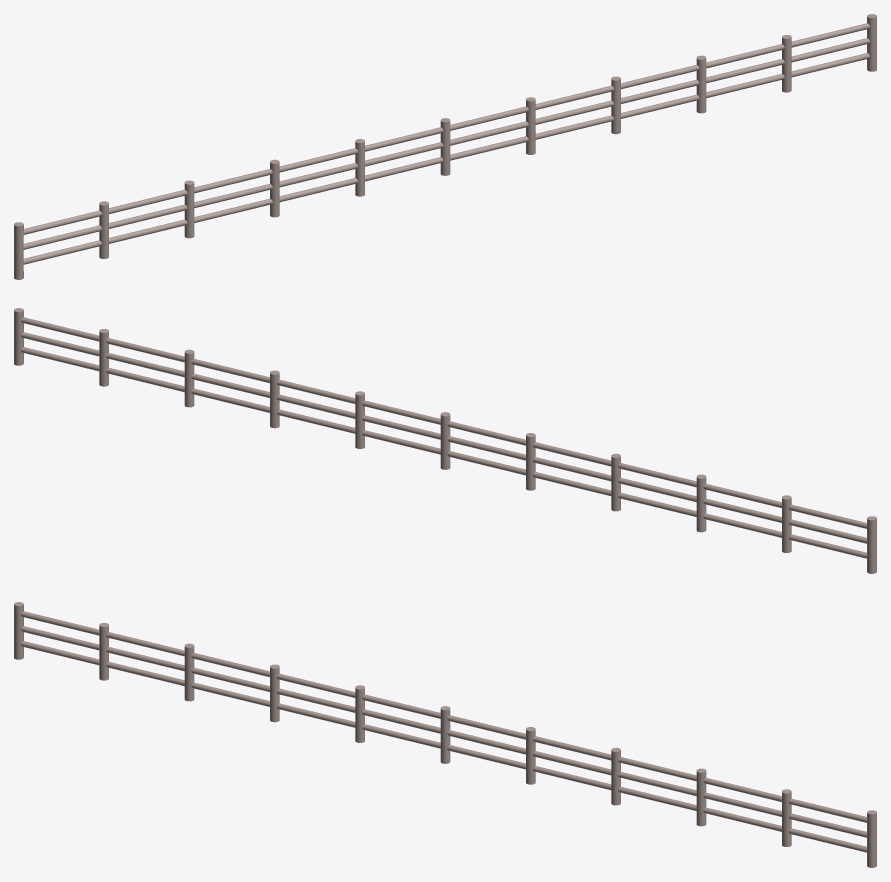
The model's file is 1010_fence_10.glb.
3 views of the same model, one above another, from view 1: azimuth 30°, elevation 25°; view 2: azimuth 150°, elevation 25°; view 3: azimuth 330°, elevation 25° (orthographic).
Parts seen in each view (by area): view 1: Body; view 2: Body; view 3: Body.
Part boxes in pixels (<box>): Body: <box>14,14,876,279</box>; Body: <box>14,308,876,573</box>; Body: <box>14,602,876,867</box>.
Size of the model in its own units: 15.15 by 0.9 by 0.15.
